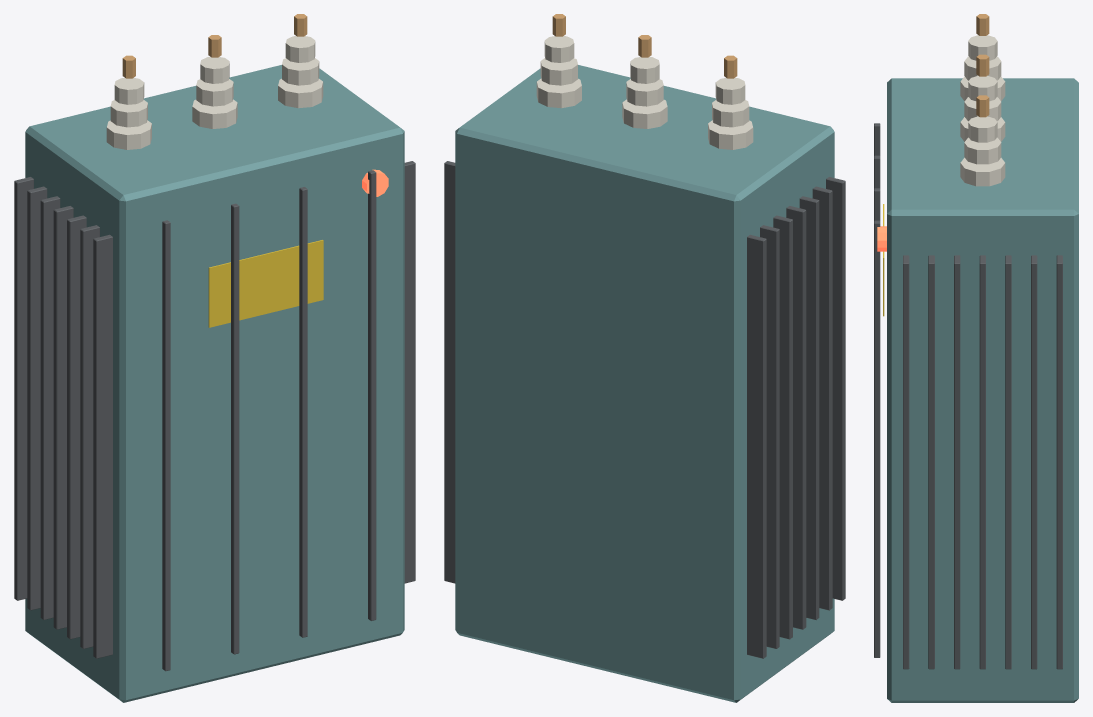
The model's file is transformer.glb.
3 renders of one model, left to right at view 1: azimuth 30°, elevation 25°; view 2: azimuth 150°, elevation 25°; view 3: azimuth 270°, elevation 25°, orthographic. The views are drawn at different scales.
Visible parts, largest first — view 1: transformer; view 2: transformer; view 3: transformer.
Part boxes in pixels (box(x1,y1,x2,y2)): transformer: box(14, 14, 415, 702); transformer: box(444, 14, 845, 702); transformer: box(874, 14, 1078, 702).
Bounding box in the file's own units: 1.12 × 2 × 0.64.
